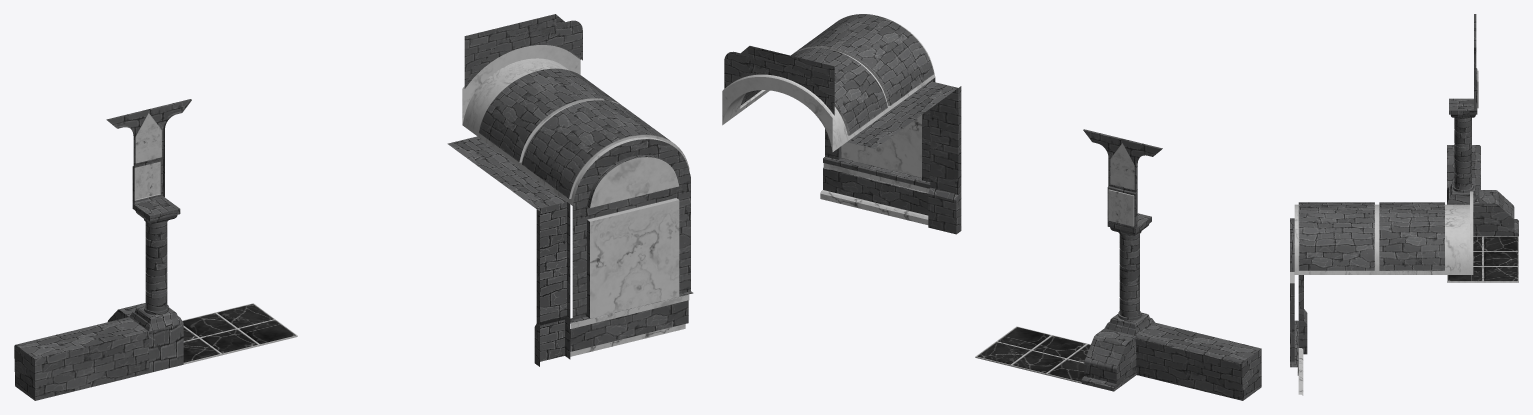
The model's file is PR_Atlas_1.fbx.
The picture shows the model from 3 angles, left to right: view 1: azimuth 30°, elevation 25°; view 2: azimuth 150°, elevation 25°; view 3: azimuth 270°, elevation 25°; orthographic projection. The views are drawn at different scales.
Parts seen in each view (by area): view 1: PR_Atlas_1_06, PR_Atlas_1_04, PR_Atlas_1_07, PR_Atlas_1_10, PR_Atlas_1_01, PR_Atlas_1_05, PR_Atlas_1_09, PR_Atlas_1_08, PR_Atlas_1_03, PR_Atlas_1_11, PR_Atlas_1_02; view 2: PR_Atlas_1_04, PR_Atlas_1_10, PR_Atlas_1_07, PR_Atlas_1_05, PR_Atlas_1_01, PR_Atlas_1_06, PR_Atlas_1_08, PR_Atlas_1_09, PR_Atlas_1_02, PR_Atlas_1_03, PR_Atlas_1_11; view 3: PR_Atlas_1_04, PR_Atlas_1_01, PR_Atlas_1_09, PR_Atlas_1_02, PR_Atlas_1_06, PR_Atlas_1_10, PR_Atlas_1_07, PR_Atlas_1_05, PR_Atlas_1_08.
Boxes of the visible parts, x1,y1,x2,y2 form: PR_Atlas_1_06: (572, 139, 690, 319); PR_Atlas_1_04: (462, 45, 689, 205); PR_Atlas_1_07: (447, 136, 570, 366); PR_Atlas_1_10: (14, 317, 148, 400); PR_Atlas_1_01: (182, 303, 297, 364); PR_Atlas_1_05: (570, 291, 693, 356); PR_Atlas_1_09: (129, 197, 183, 331); PR_Atlas_1_08: (106, 99, 191, 204); PR_Atlas_1_03: (464, 14, 582, 88); PR_Atlas_1_11: (467, 16, 582, 85); PR_Atlas_1_02: (107, 303, 183, 372); PR_Atlas_1_04: (722, 14, 935, 151); PR_Atlas_1_10: (1135, 322, 1261, 400); PR_Atlas_1_07: (847, 79, 961, 234); PR_Atlas_1_05: (820, 156, 930, 224); PR_Atlas_1_01: (975, 326, 1090, 383); PR_Atlas_1_06: (825, 77, 935, 181); PR_Atlas_1_08: (1083, 129, 1162, 228); PR_Atlas_1_09: (1104, 213, 1154, 336); PR_Atlas_1_02: (1081, 328, 1136, 391); PR_Atlas_1_03: (724, 48, 834, 112); PR_Atlas_1_11: (724, 46, 834, 115); PR_Atlas_1_04: (1294, 191, 1473, 274); PR_Atlas_1_01: (1447, 236, 1518, 282); PR_Atlas_1_09: (1447, 98, 1479, 203); PR_Atlas_1_02: (1447, 190, 1518, 236); PR_Atlas_1_06: (1290, 218, 1294, 361); PR_Atlas_1_10: (1447, 145, 1480, 189); PR_Atlas_1_07: (1298, 275, 1307, 354); PR_Atlas_1_05: (1290, 320, 1303, 395); PR_Atlas_1_08: (1474, 14, 1478, 110).
Size of the model in its own units: 1137 by 476 by 493.
